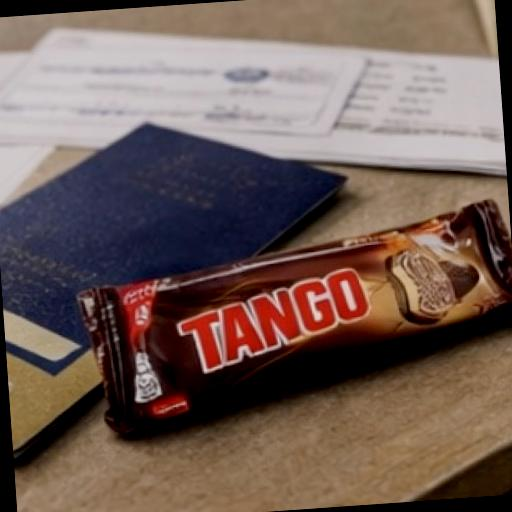tango: (31, 200, 512, 484)
